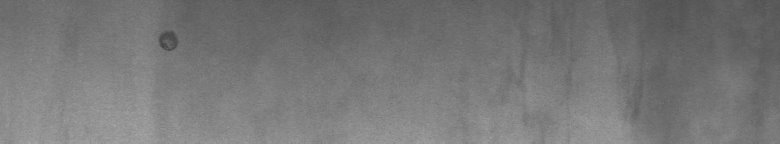fi: (152, 27, 183, 56)
